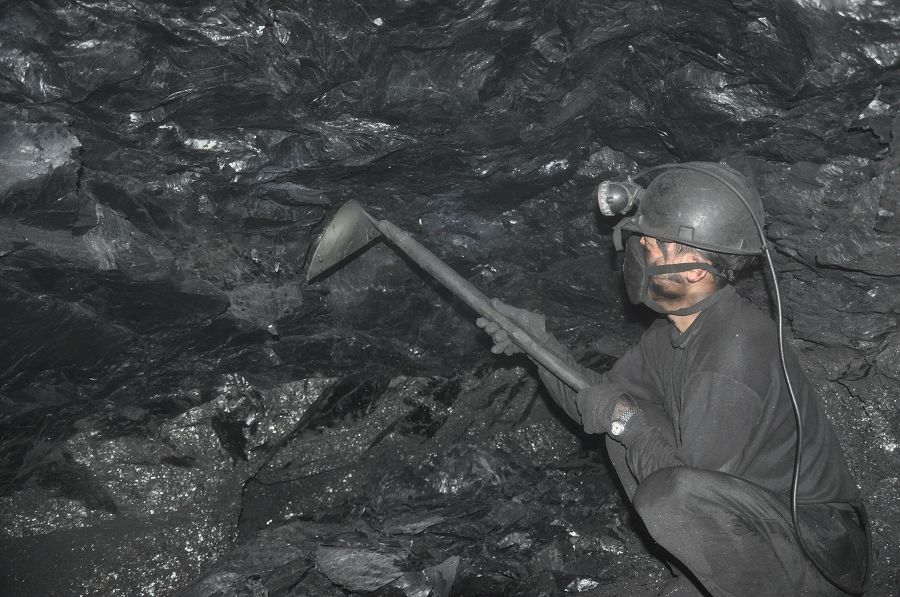helmet: (592, 141, 776, 330)
